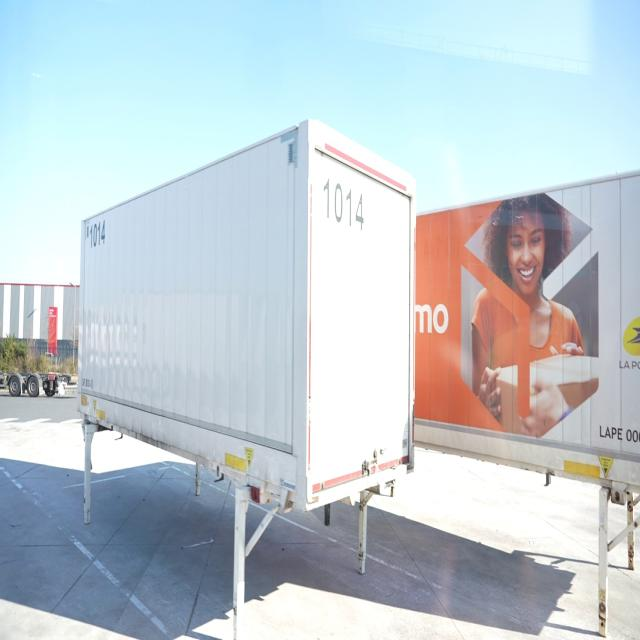Code: (319, 171, 373, 240), (88, 213, 111, 253)
